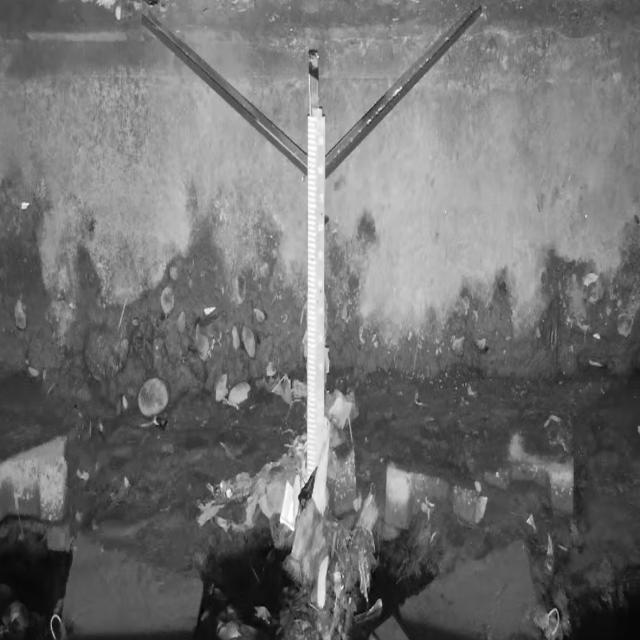water-meter: (301, 108, 332, 520)
